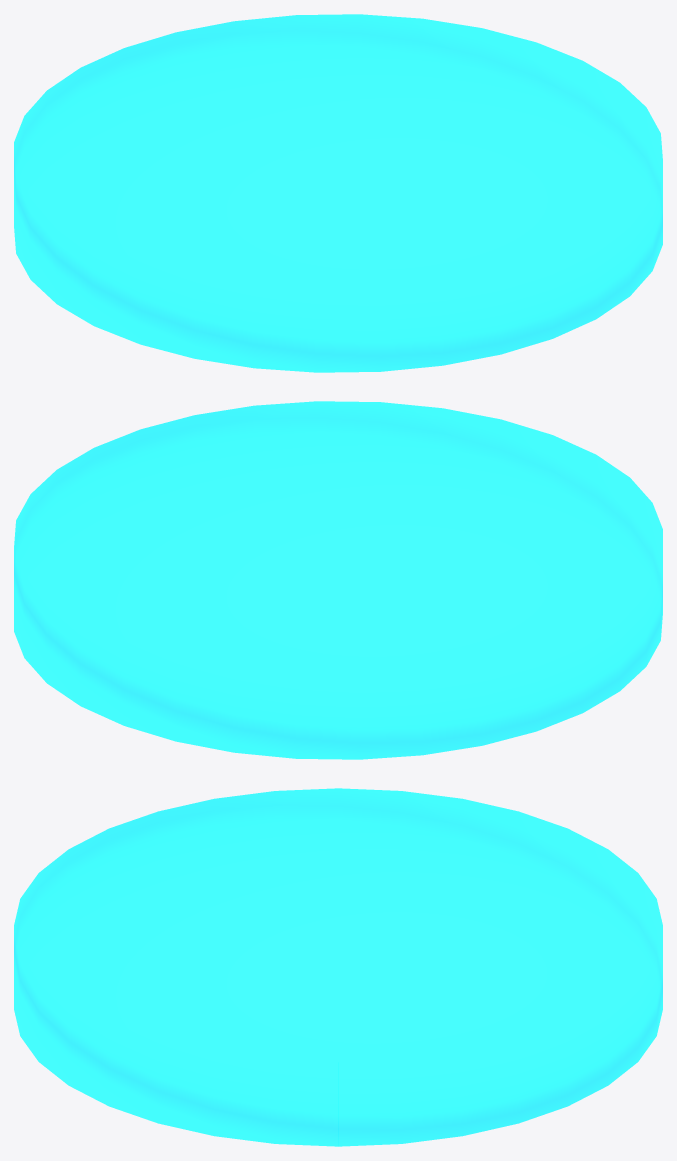
The model's file is selection.fbx.
The picture shows the model from 3 angles, top to bottom: view 1: azimuth 30°, elevation 25°; view 2: azimuth 150°, elevation 25°; view 3: azimuth 270°, elevation 25°; orthographic projection.
Parts seen in each view (by area): view 1: SelectionModel; view 2: SelectionModel; view 3: SelectionModel.
Part boxes in pixels (<box>): SelectionModel: <box>14,14,662,372</box>; SelectionModel: <box>14,401,662,759</box>; SelectionModel: <box>14,788,662,1146</box>.
Bounding box in the file's own units: 1.4 × 0.2 × 1.4.
